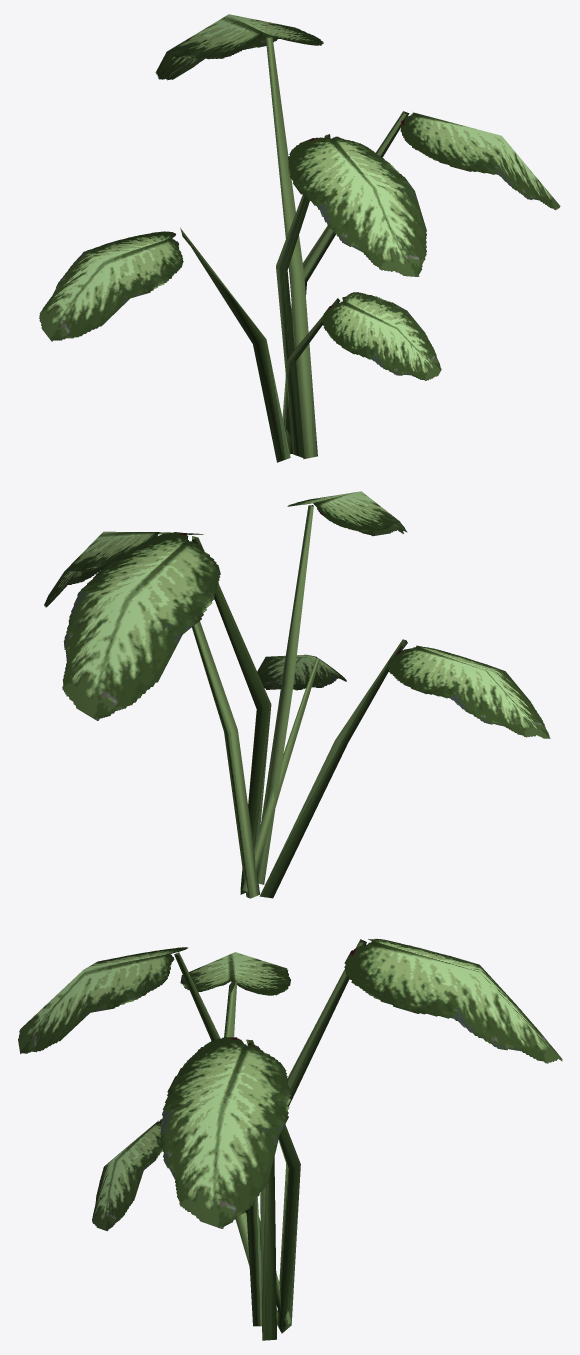
Rendered from plant_leafy.fbx.
The picture shows the model from 3 angles, top to bottom: view 1: azimuth 30°, elevation 25°; view 2: azimuth 150°, elevation 25°; view 3: azimuth 270°, elevation 25°; orthographic projection. The views are drawn at different scales.
Parts seen in each view (by area): view 1: plant_leafy; view 2: plant_leafy; view 3: plant_leafy.
Boxes of the visible parts, <box> form: plant_leafy: <box>39,14,560,462</box>; plant_leafy: <box>44,491,550,898</box>; plant_leafy: <box>18,939,562,1340</box>.
Bounding box in the file's own units: 169 × 123 × 152.
Materials: 1 (1 with a texture image).
